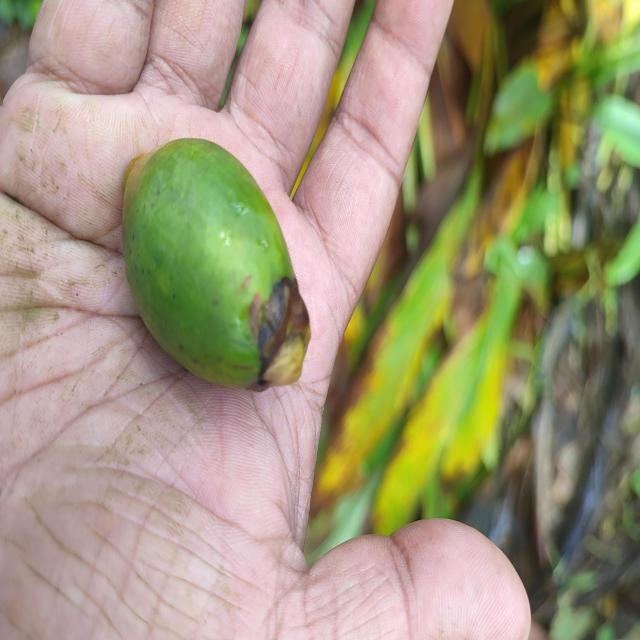good: (122, 138, 311, 390)
